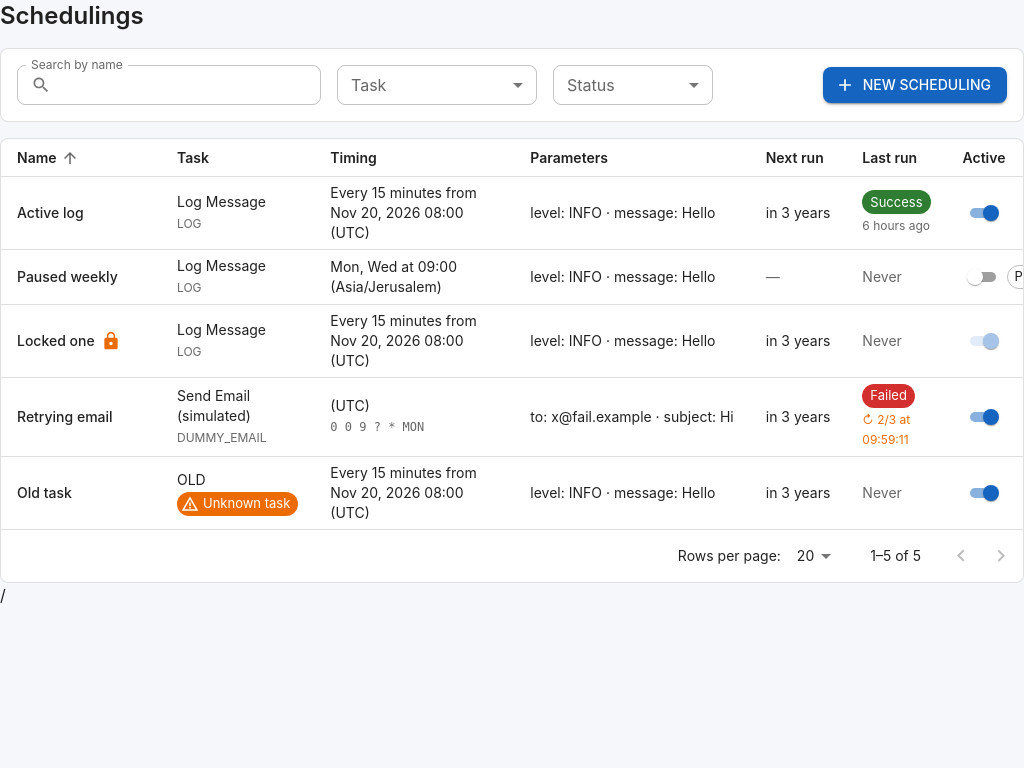
it: SchedulingsPage › creates a scheduling and shows duplicate warnings from the response
Expected: the text "Active log" is shown, [17, 203, 84, 223]
Click the button "New scheduling".
click(915, 85)  # box [823, 67, 1007, 103]
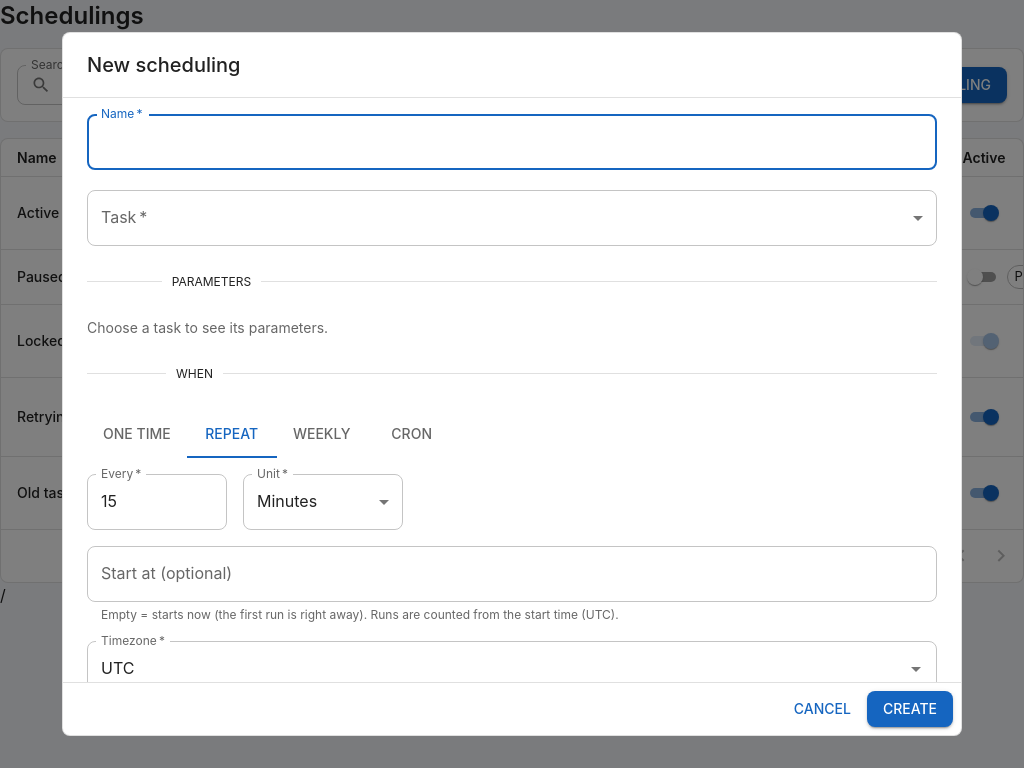
Type "Copy" into the field labelled "Name *".
click(512, 142); type("Copy")  # box [87, 114, 937, 170]
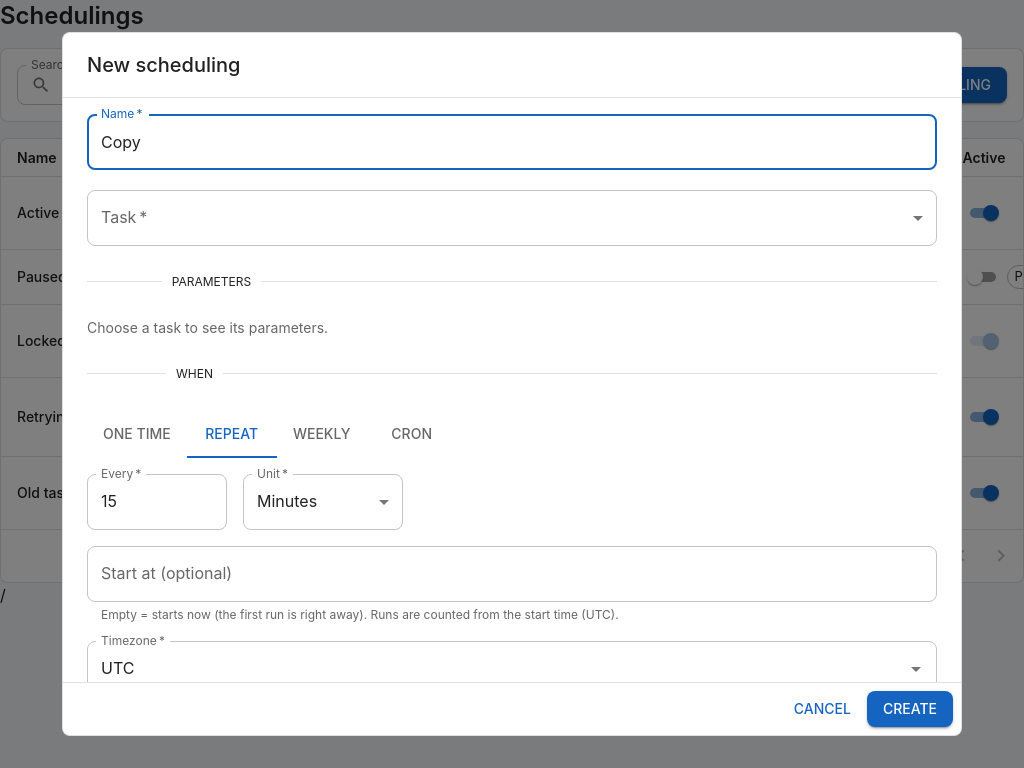
Click the dropdown named "task".
click(512, 218)  # box [87, 190, 937, 246]
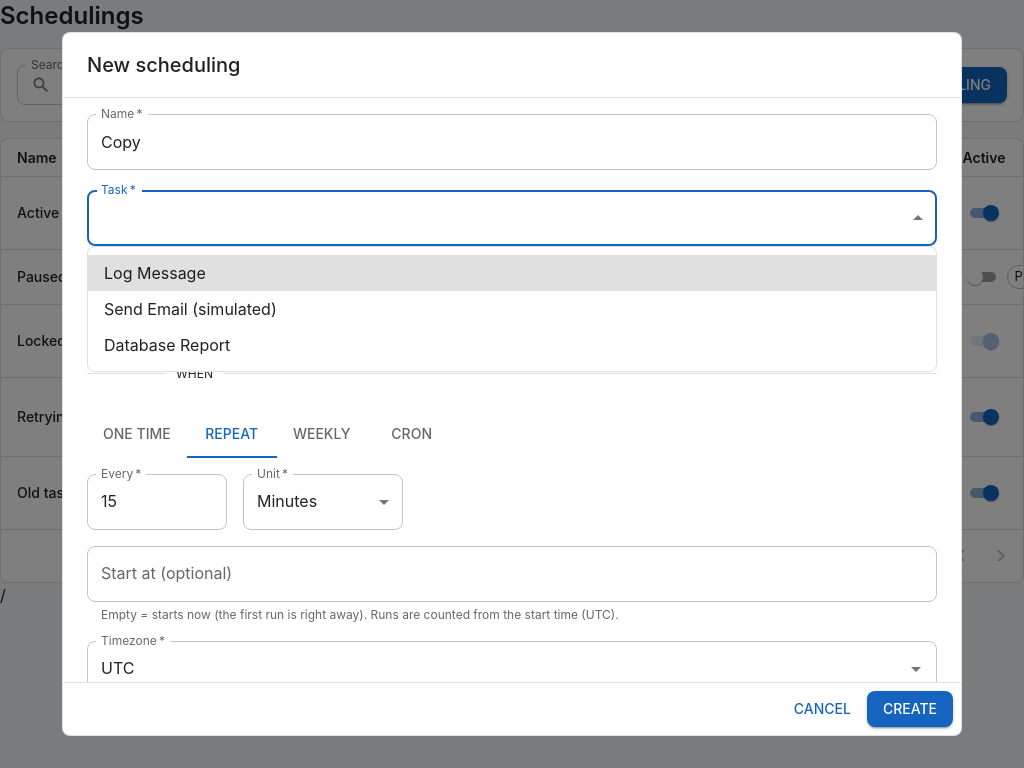
Click the option "Log Message".
click(155, 273)  # box [88, 255, 936, 291]
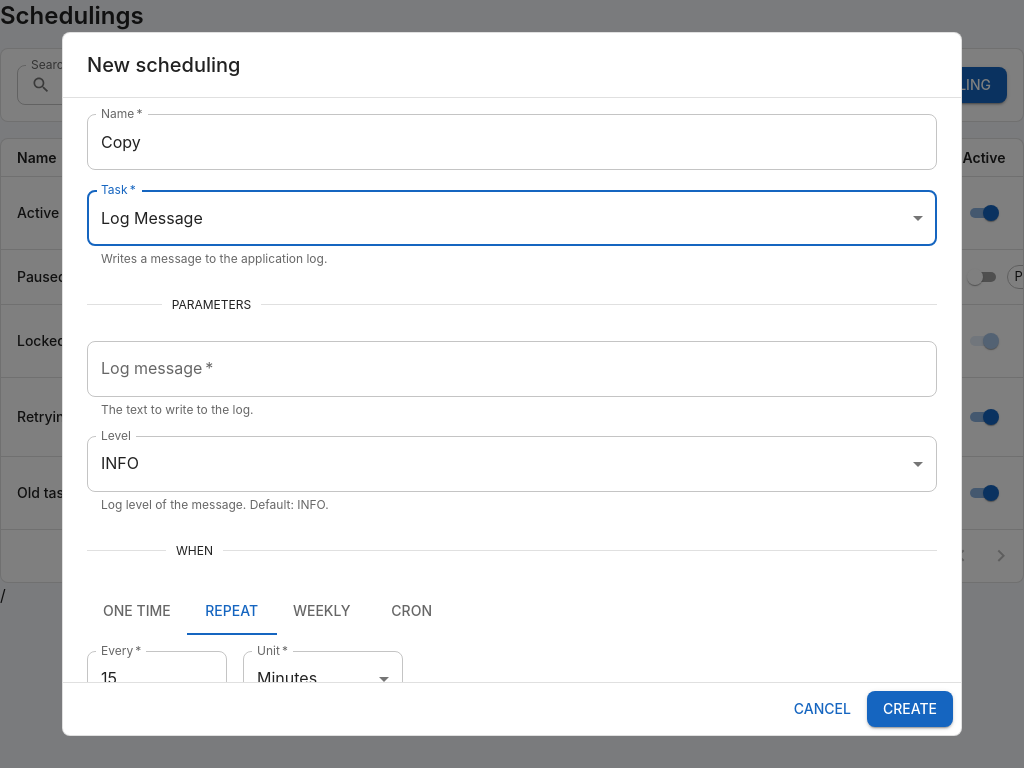
Type "Hello" into the field labelled "Log message *".
click(512, 369); type("Hello")  # box [87, 341, 937, 397]
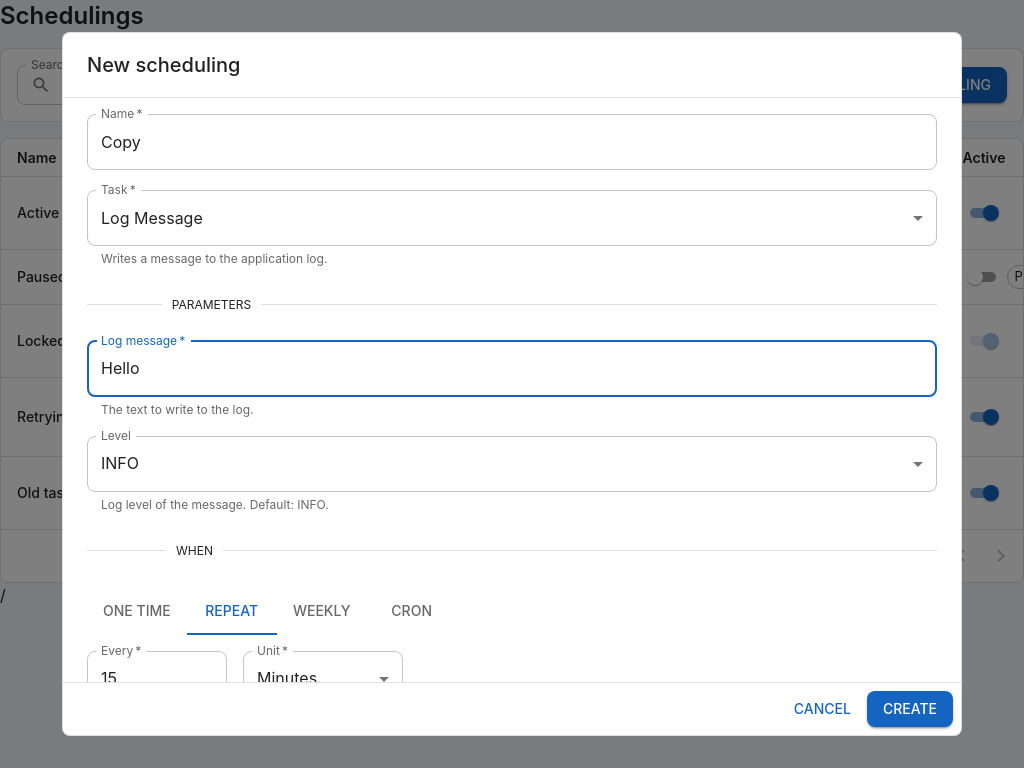
Click the button "Create".
click(910, 709)  # box [867, 690, 953, 727]
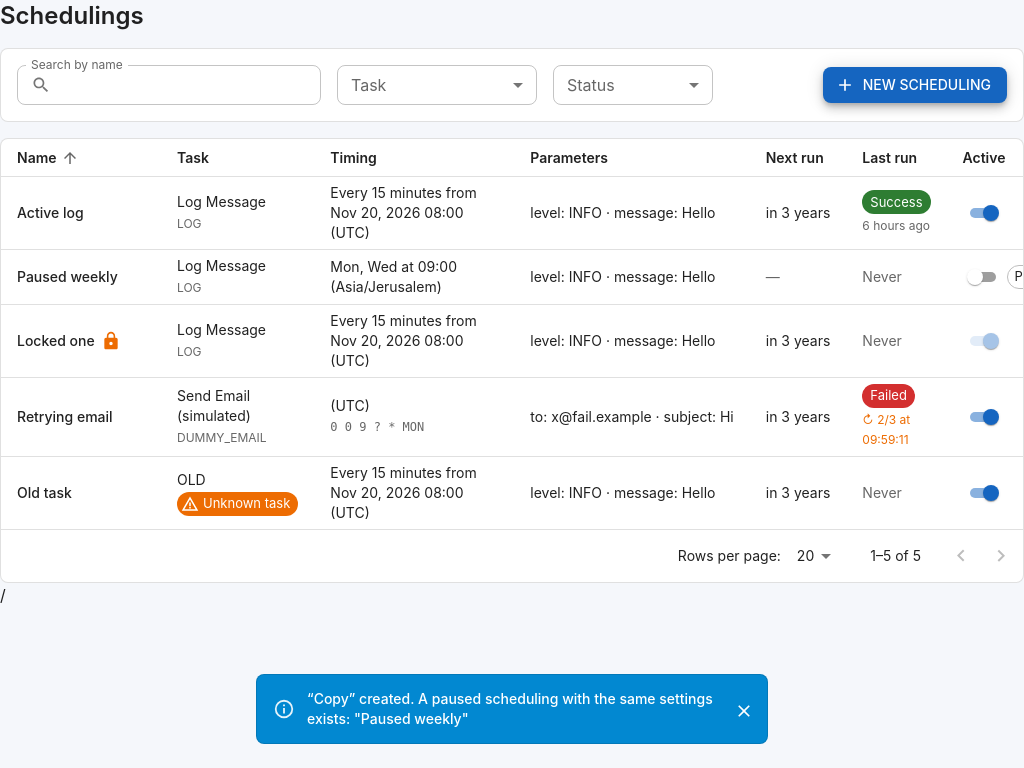
Expected: the text "“Copy” created. A paused scheduling with the same settings exists: \"Paused weekly\"" is shown, [307, 690, 713, 727]
Expected: the dialog is gone
